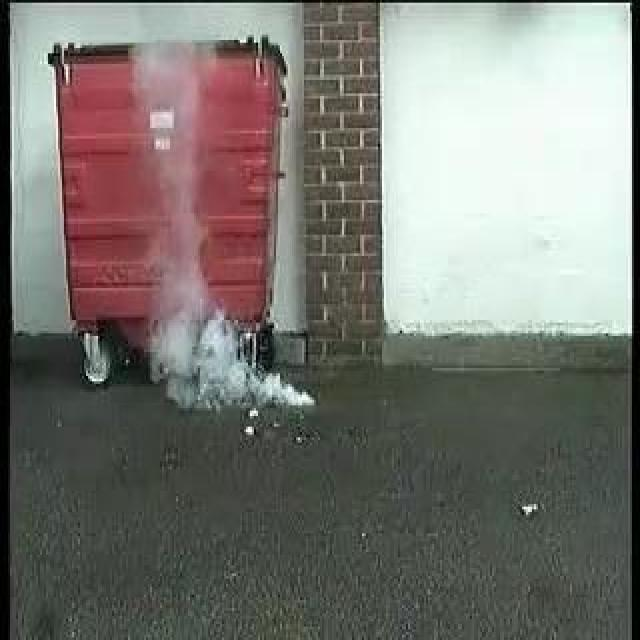Smoke: (137, 307, 313, 413)
